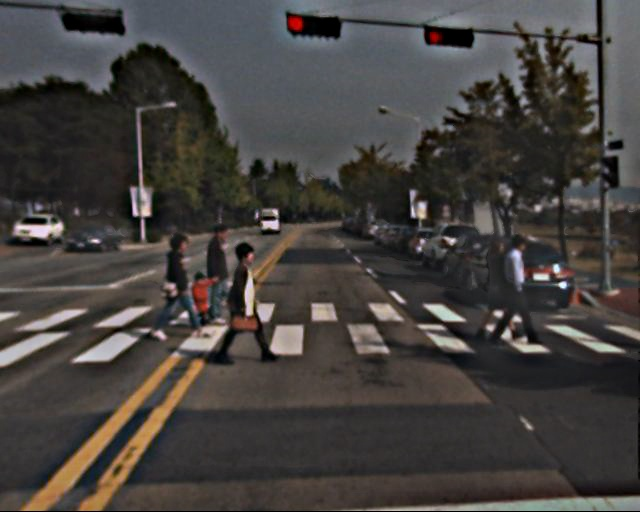person: (220, 241, 273, 370), (494, 234, 542, 351), (158, 234, 202, 342), (476, 236, 520, 344), (198, 224, 240, 326)
